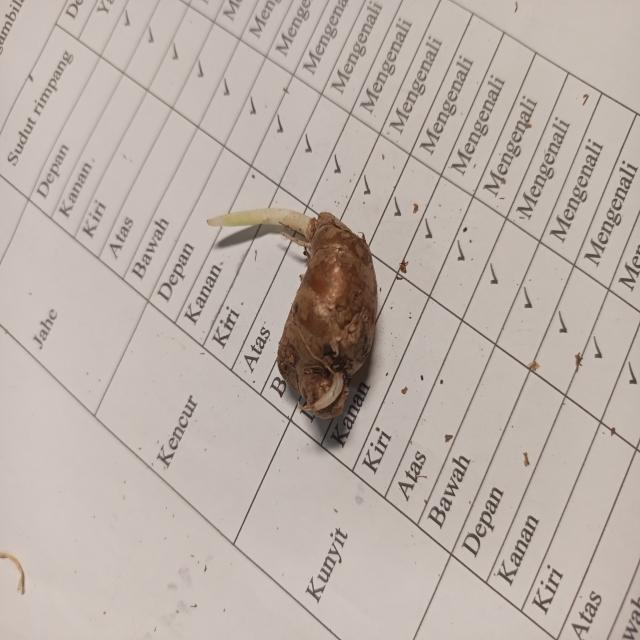ginger: (280, 208, 384, 422)
